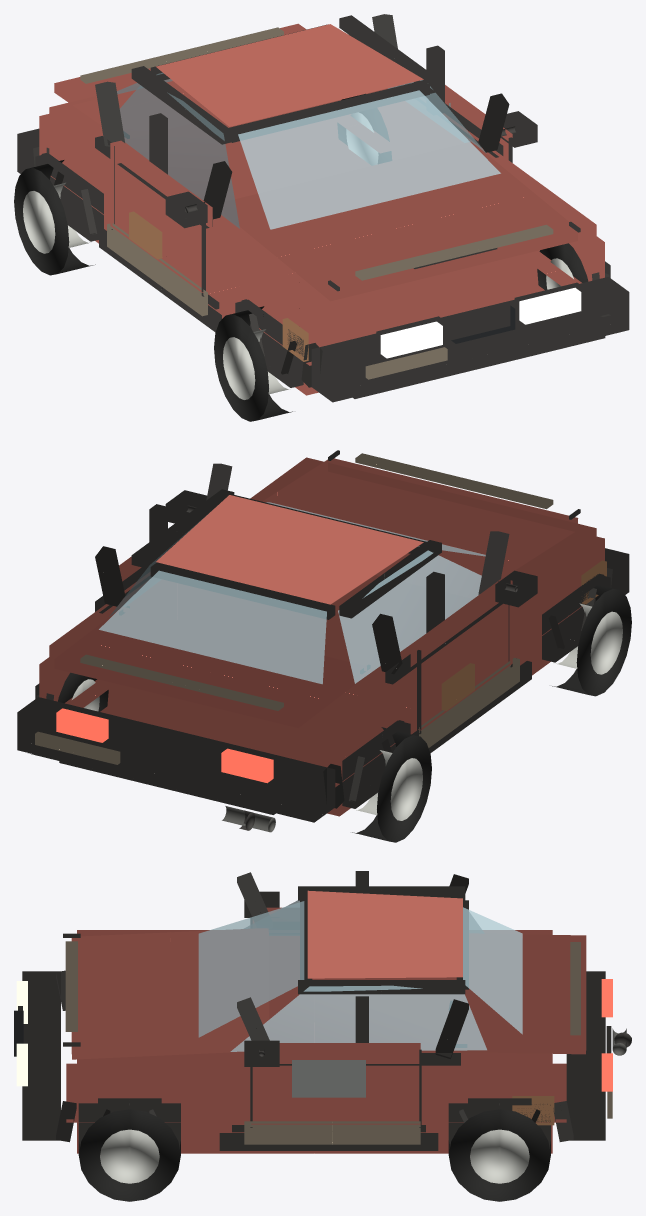
File: gruz_e36.gltf
3 views of the same model, one above another, from view 1: azimuth 30°, elevation 25°; view 2: azimuth 150°, elevation 25°; view 3: azimuth 270°, elevation 25° (orthographic). The views are drawn at different scales.
Visible parts, largest first — view 1: Hood, Car_Body, Windshield, Roof, Front_Bumper, Door_L, Window_L, Fender_FL, Trunk, Tire_RL, Tire_FL, Windshield_Header (+34 smaller); view 2: Car_Body, Trunk, Roof, Hood, Rear_Window, Rear_Bumper, Door_L, Window_L, Fender_RL, Fender_FL, Tire_RL, Tire_FL (+31 smaller); view 3: Hood, Car_Body, Trunk, Roof, Door_R, Windshield, Window_R, Front_Bumper, Fender_FR, Rear_Window, Fender_RR, Tire_FR (+30 smaller).
Part boxes in pixels (<box>): Hood: <box>224,141,577,301</box>; Car_Body: <box>49,79,596,395</box>; Windshield: <box>238,90,500,229</box>; Roof: <box>156,24,423,126</box>; Front_Bumper: <box>311,277,629,402</box>; Door_L: <box>110,140,212,292</box>; Window_L: <box>119,85,239,228</box>; Fender_FL: <box>239,256,334,365</box>; Trunk: <box>54,23,306,139</box>; Tire_RL: <box>14,160,95,275</box>; Tire_FL: <box>214,306,292,421</box>; Windshield_Header: <box>225,80,429,142</box>; Car_Body: <box>49,457,596,816</box>; Trunk: <box>54,607,366,728</box>; Roof: <box>156,495,423,604</box>; Hood: <box>262,458,578,597</box>; Rear_Window: <box>99,570,326,684</box>; Rear_Bumper: <box>17,697,335,822</box>; Door_L: <box>410,578,512,730</box>; Window_L: <box>338,550,481,683</box>; Fender_RL: <box>309,679,404,787</box>; Fender_FL: <box>512,536,604,641</box>; Tire_RL: <box>352,727,431,842</box>; Tire_FL: <box>552,582,631,696</box>; Hood: <box>71,928,269,1059</box>; Car_Body: <box>77,930,552,1153</box>; Trunk: <box>459,933,586,1054</box>; Roof: <box>307,890,462,978</box>; Door_R: <box>251,1043,420,1124</box>; Windshield: <box>198,901,304,1037</box>; Window_R: <box>230,985,486,1051</box>; Front_Bumper: <box>22,971,60,1140</box>; Fender_FR: <box>66,1063,196,1122</box>; Rear_Window: <box>463,907,522,1034</box>; Fender_RR: <box>436,1063,566,1122</box>; Tire_FR: <box>78,1109,180,1201</box>.
Size of the model in its own units: 2.23 by 1.16 by 3.51.
